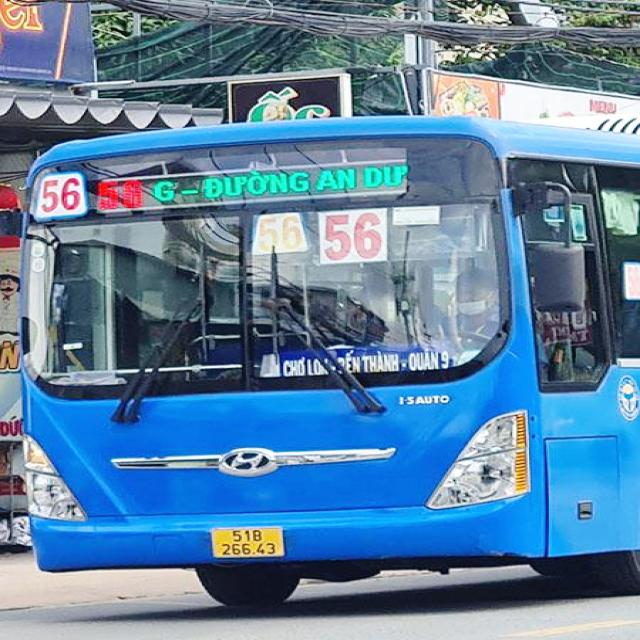license_plate: (213, 529, 285, 559)
